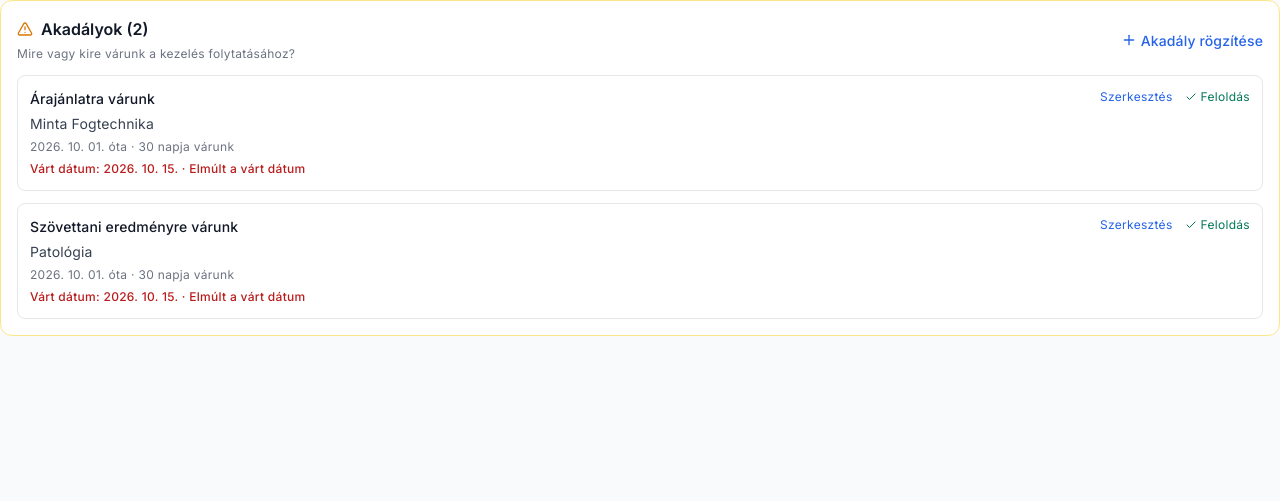
resolves one obstacle while another remains active and keeps the resolved history
Expected: the text "Minta Fogtechnika" is shown, x1=30 y1=115 x2=154 y2=132
Click the button "Feloldás" in the row of "Árajánlatra várunk" at (1217, 97), box x1=1185 y1=88 x2=1250 y2=106
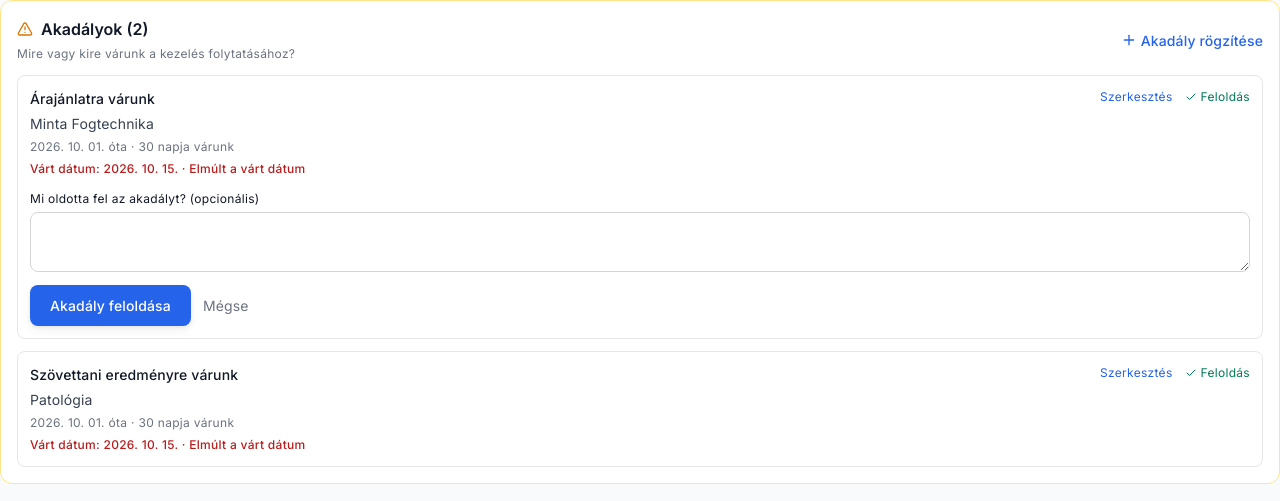
Type "Árajánlat megérkezett" into the text box labelled "Mi oldotta fel az akadályt? (opcionális)" at (640, 242), box x1=30 y1=212 x2=1250 y2=272
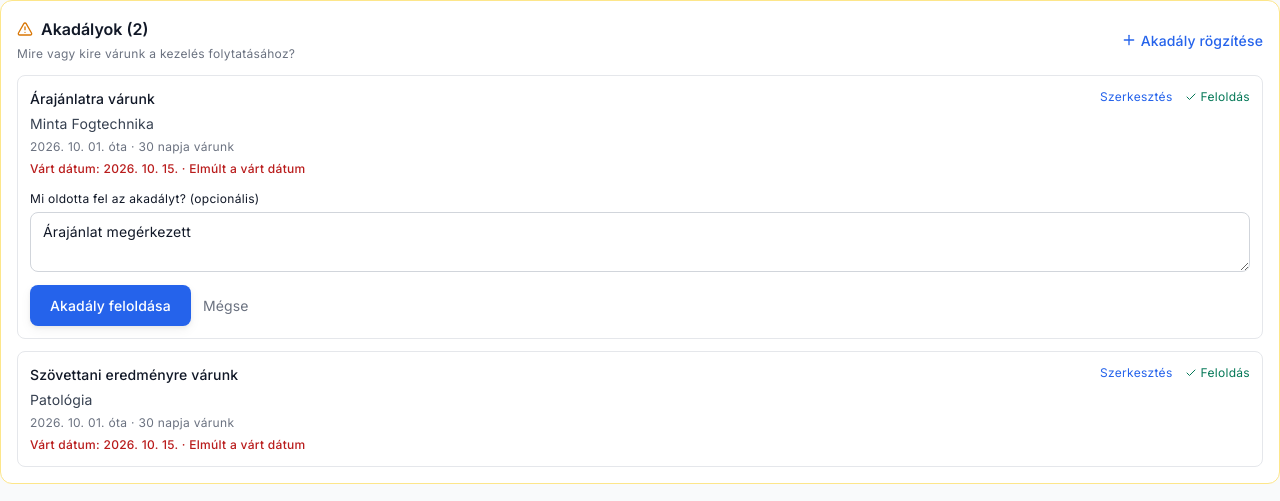
Click the button "Akadály feloldása" at (110, 306), box x1=30 y1=285 x2=191 y2=326
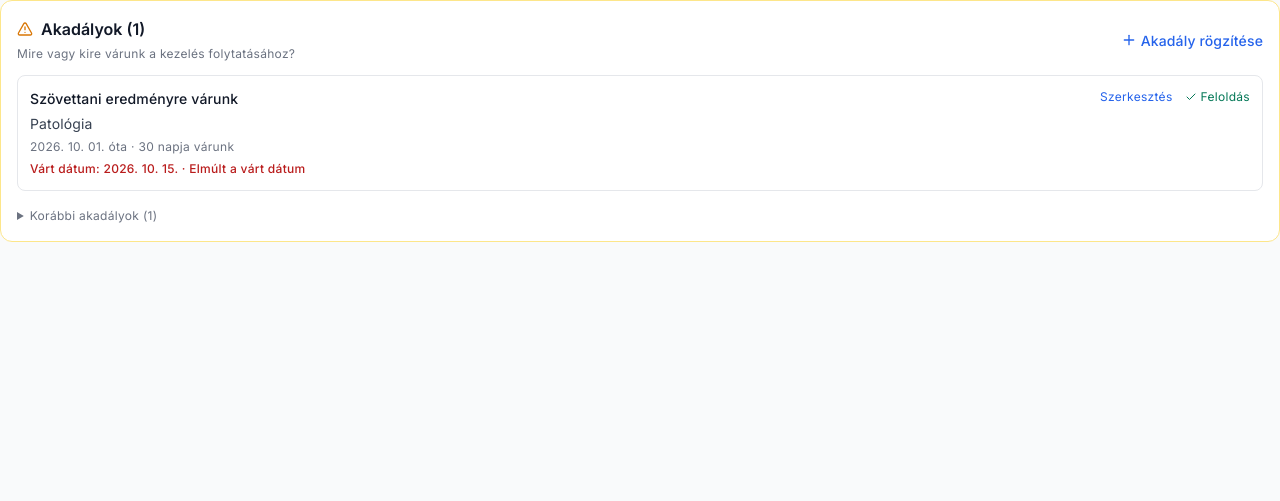
Expected: the text "Patológia" is shown, x1=30 y1=115 x2=92 y2=132
Now the heading "Akadályok (1)" is shown, box x1=17 y1=19 x2=145 y2=39
Now the heading "Korábbi akadályok (1)" is shown, box x1=30 y1=208 x2=158 y2=223
